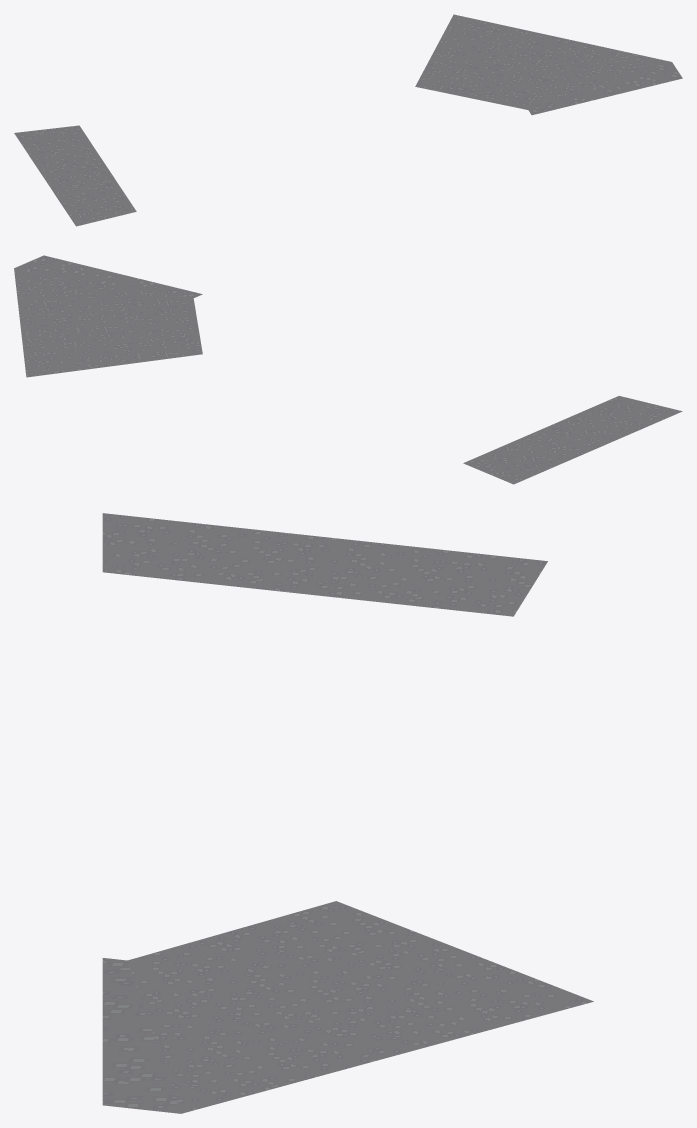
Rendered from kd_stage_1364a3_4_15_bounded.glb.
The picture shows the model from 3 angles, top to bottom: view 1: azimuth 30°, elevation 25°; view 2: azimuth 150°, elevation 25°; view 3: azimuth 270°, elevation 25°; orthographic projection. The views are drawn at different scales.
Parts seen in each view (by area): view 1: kd_stage_1364a3_4_15_bounded; view 2: kd_stage_1364a3_4_15_bounded; view 3: kd_stage_1364a3_4_15_bounded.
Boxes of the visible parts, x1,y1,x2,y2 form: kd_stage_1364a3_4_15_bounded: [14, 14, 682, 226]; kd_stage_1364a3_4_15_bounded: [14, 255, 682, 484]; kd_stage_1364a3_4_15_bounded: [102, 513, 593, 1113].
Bounding box in the file's own units: 26.33 × 1.14e-05 × 9.11.
Materials: 1 (1 with a texture image).
